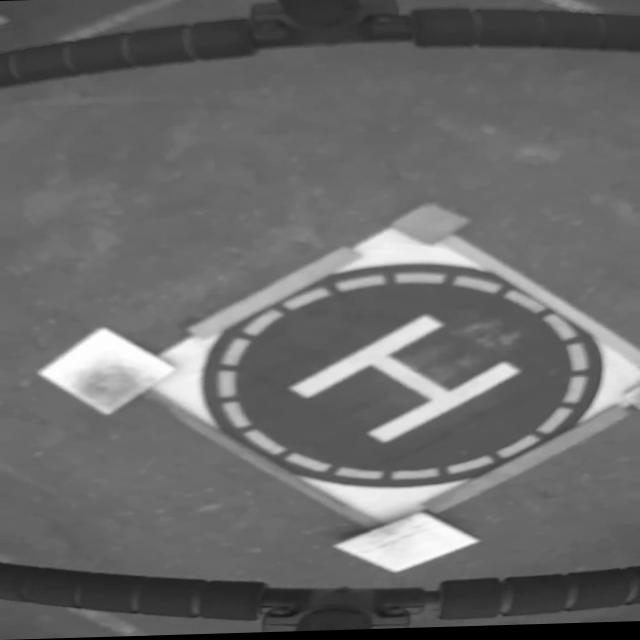Helipad: (291, 316, 523, 445)
